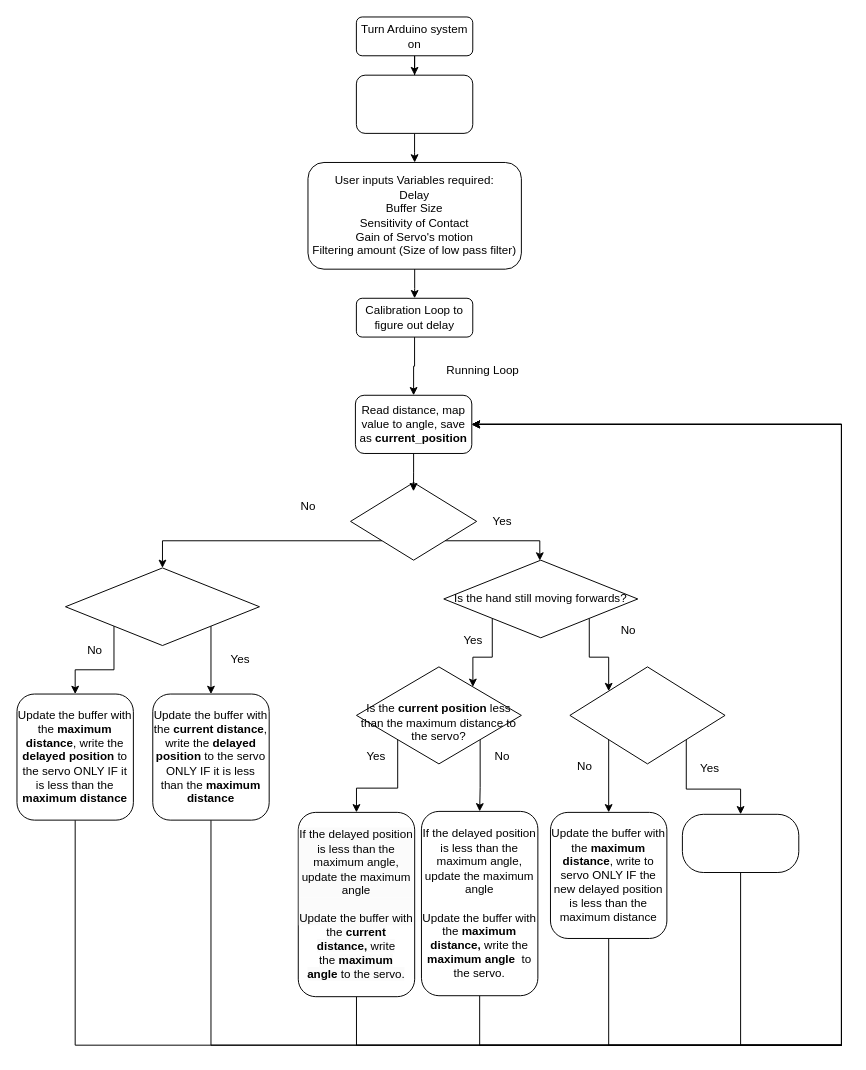
The diagram is 866 pixels wide and 1070 high, and some of its shapes have lost their labels. Here are the shapes that lost their labels. From the top down, the centre of each, then its label:
At point (414, 103): "Setup: set different ports and define variables".
At point (413, 521): "In contact with rat?".
At point (162, 606): "Is the arm position less than the maximum distance?".
At point (647, 715): "Is the delayed position less than the maximum distance to the servo?".
At point (740, 843): "Update buffer with current position , write angle to servo".
